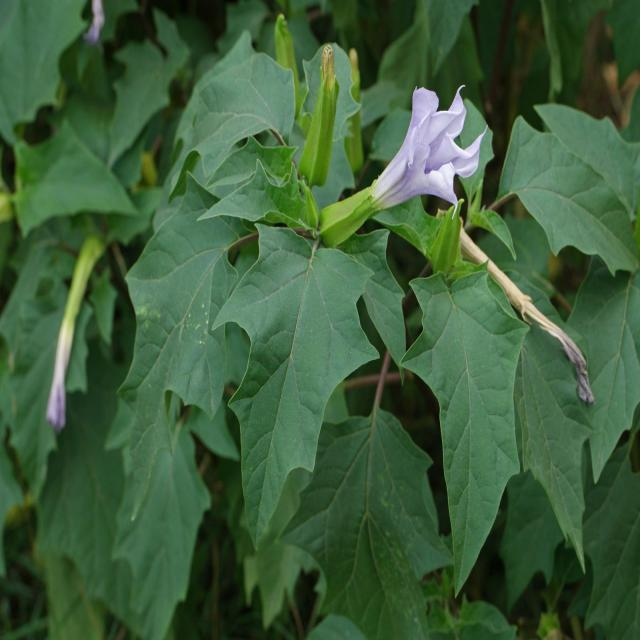Poisonous-Datura_Stramonium: (237, 274, 640, 640), (30, 198, 217, 607), (321, 88, 501, 278)
